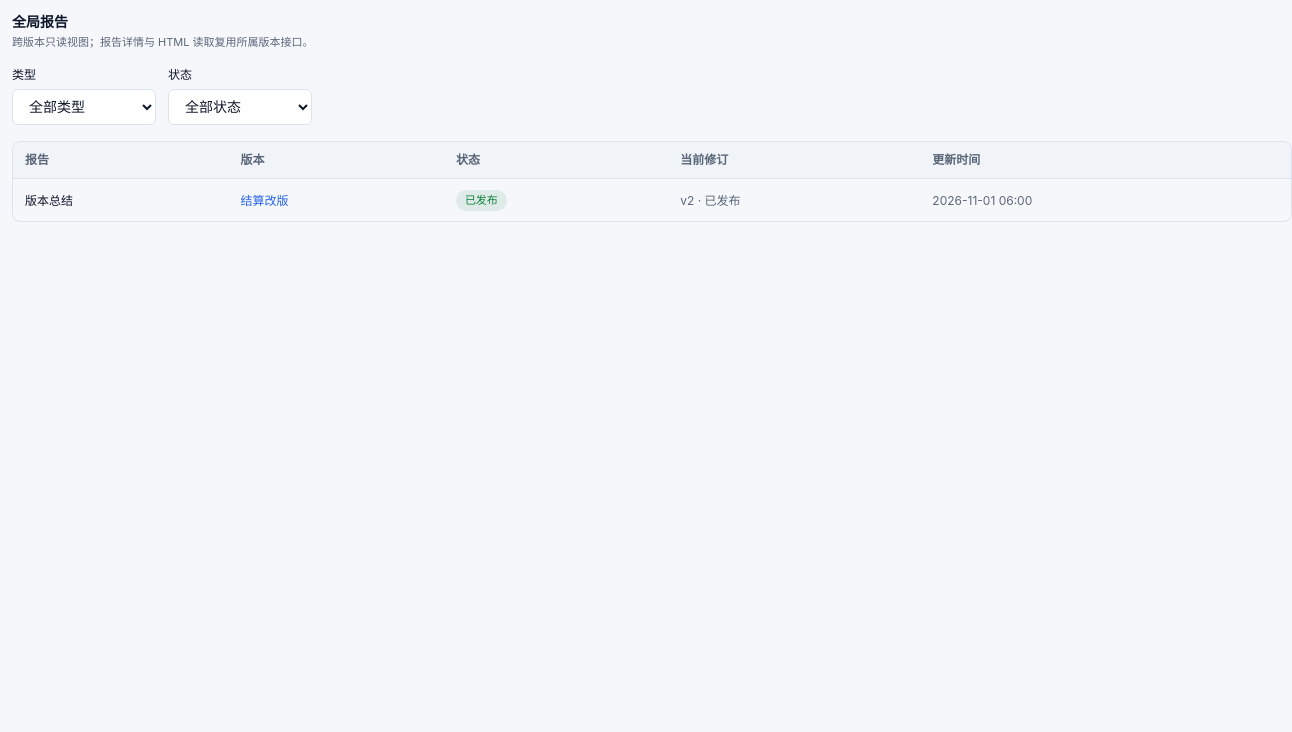
Test: GlobalReportsPage › opens a read-only report detail without export or write actions
Click the button with test id "global-report-8101" at x=49, y=201, box left=25, top=193, right=73, bottom=209
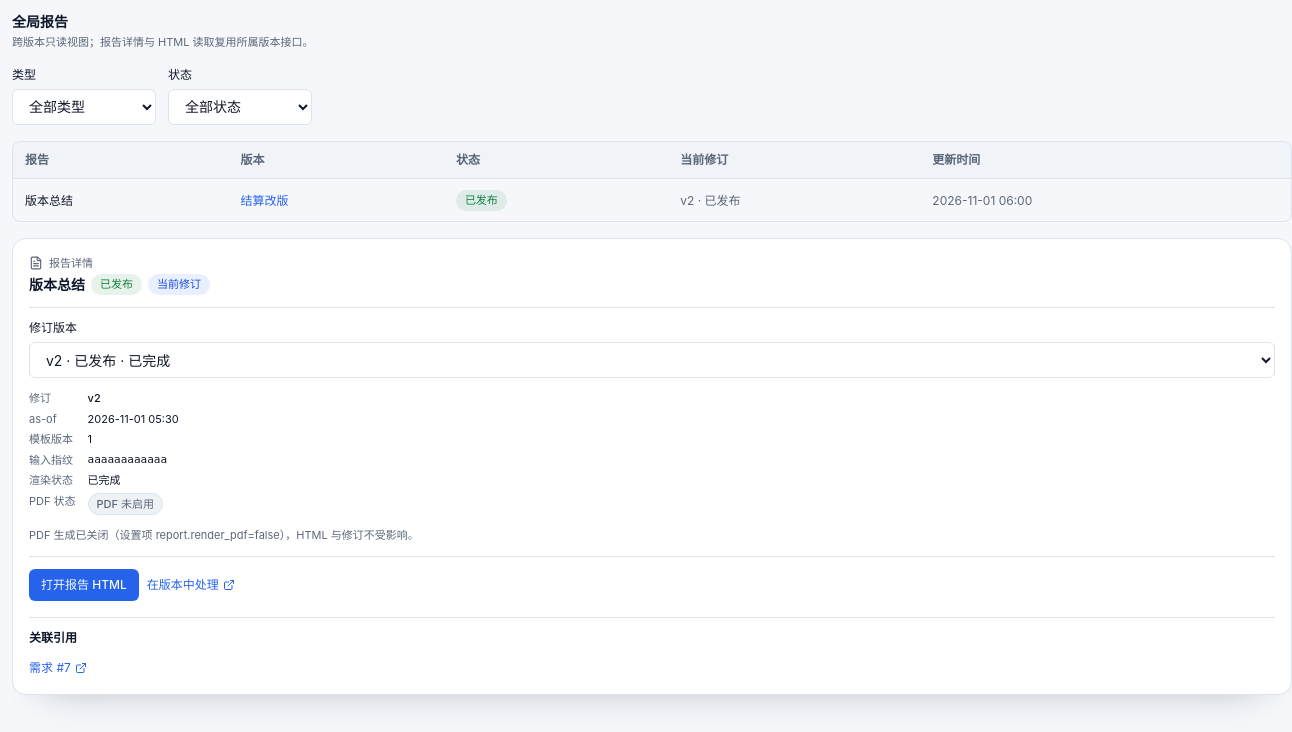
Now the element with test id "report-detail" is shown
Now the button "打开报告 HTML" is shown, box left=29, top=569, right=139, bottom=601
